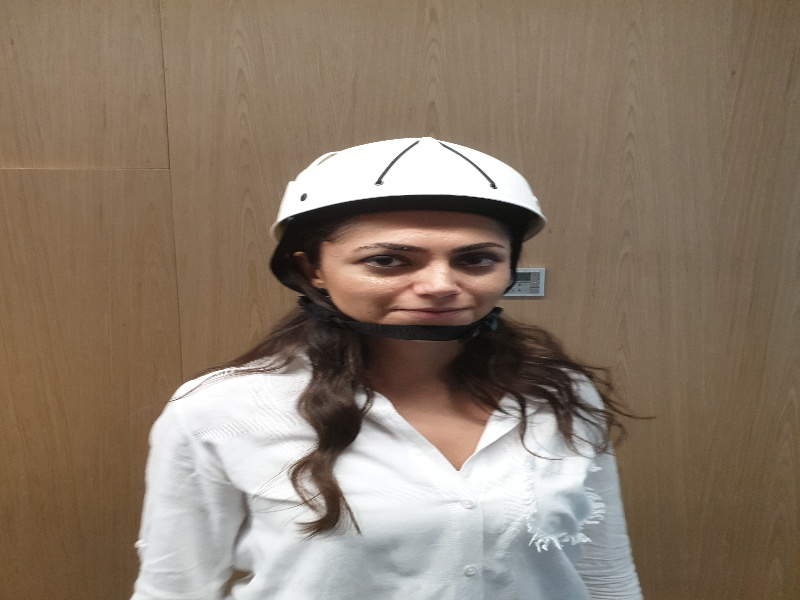Baret: (271, 137, 547, 235)
